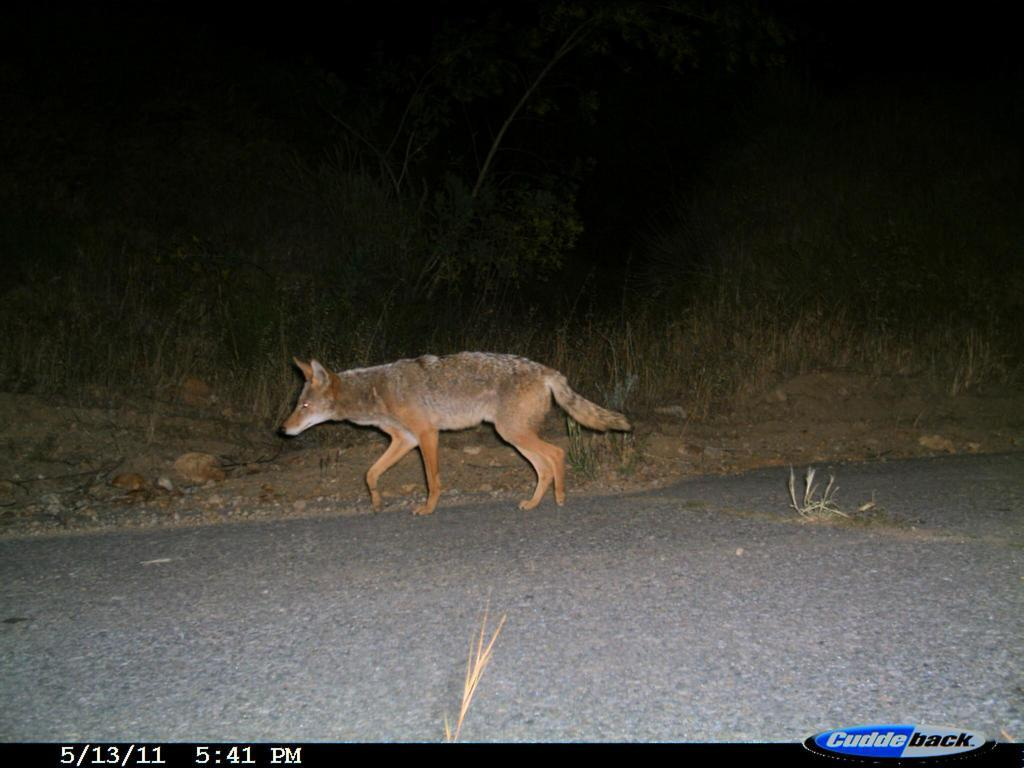coyote: (280, 340, 646, 536)
